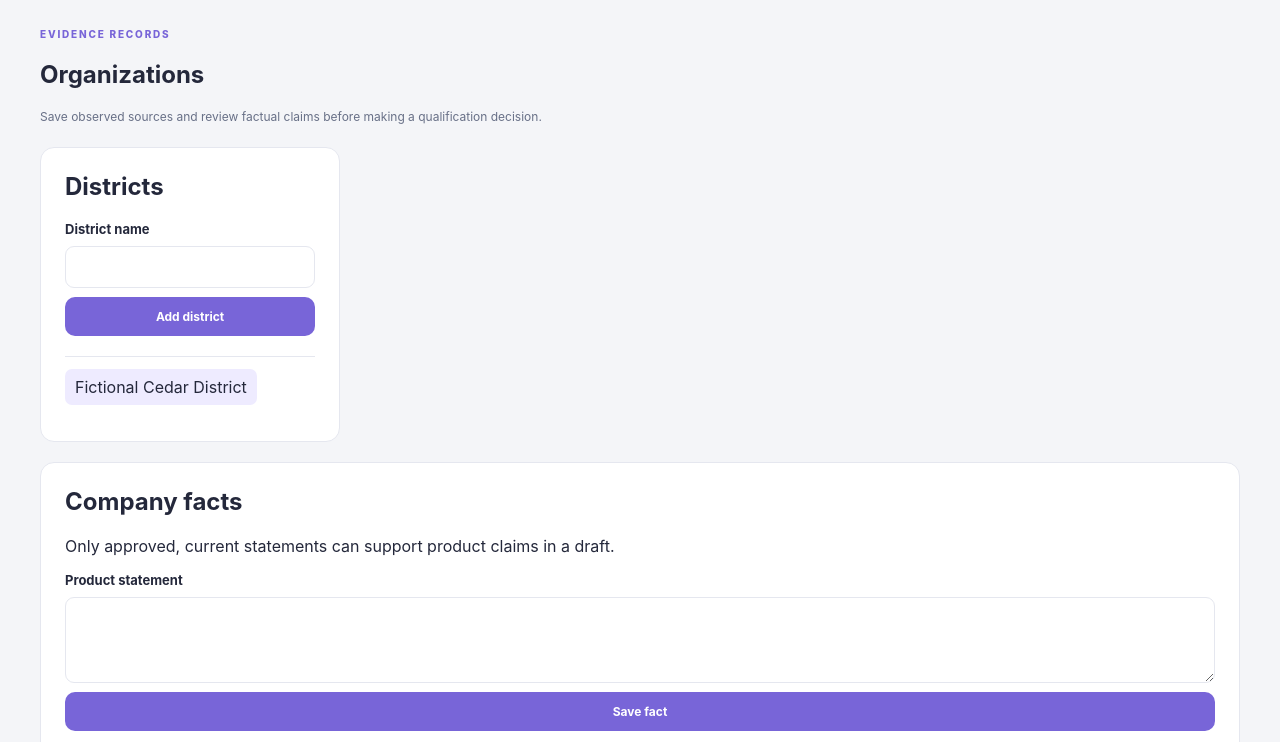
Test: creates one linked research order and rereads the saved owner state
Click the button "Fictional Cedar District". click: (161, 387)
box: [65,369,257,405]
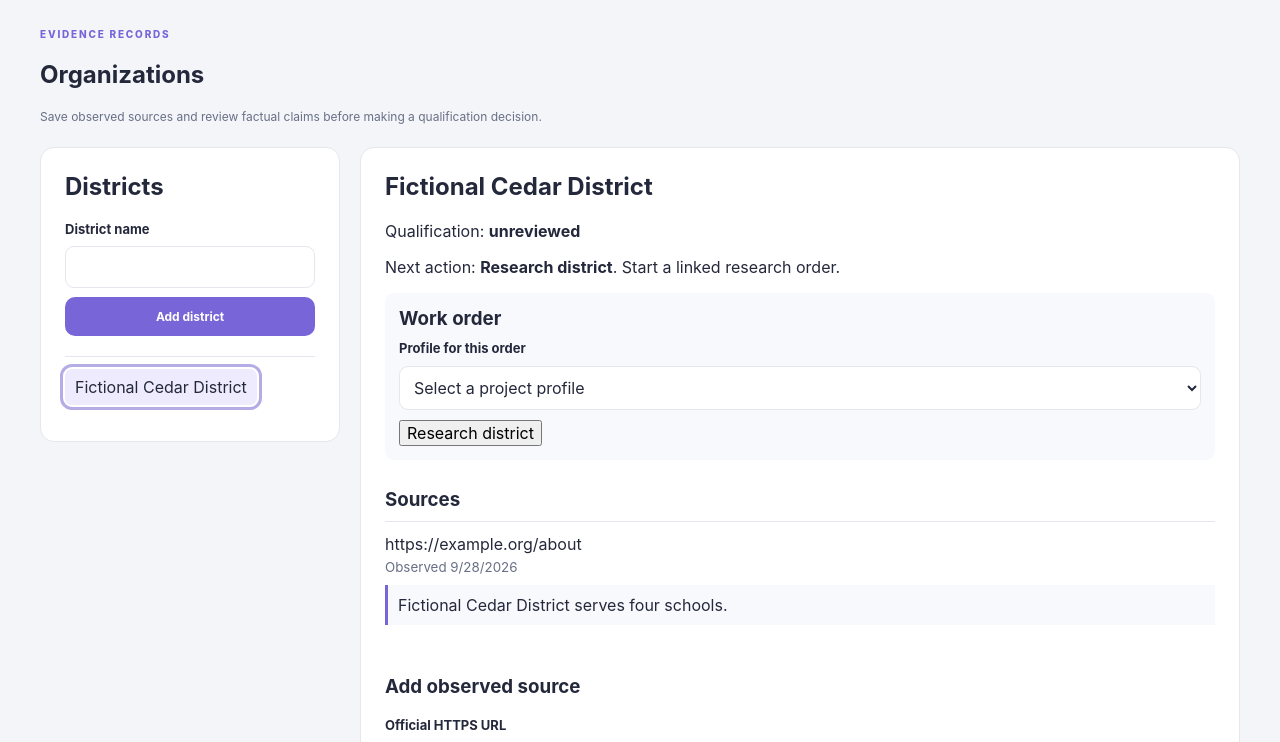
Select "Researcher" in the dropdown labelled "Profile for this order". click: (800, 388)
box: [399,366,1201,410]
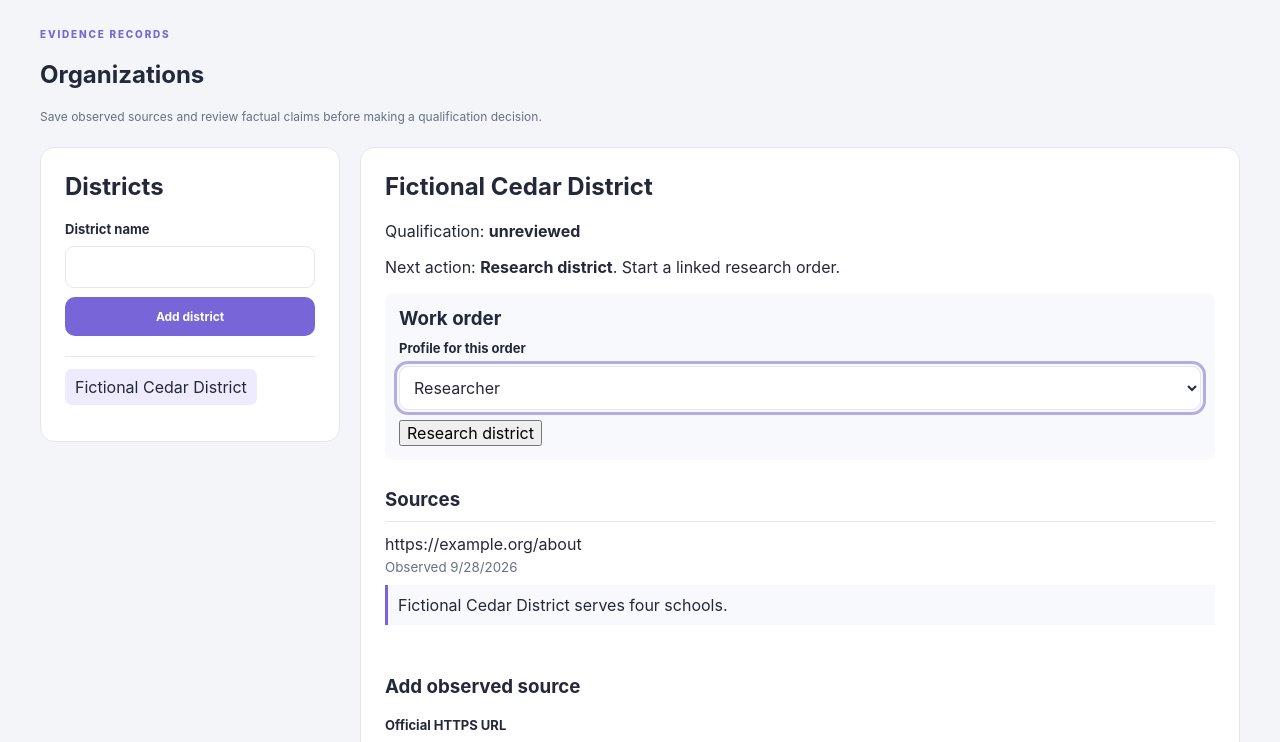
Click the button "Research district". click: (470, 433)
box: [399,420,542,446]
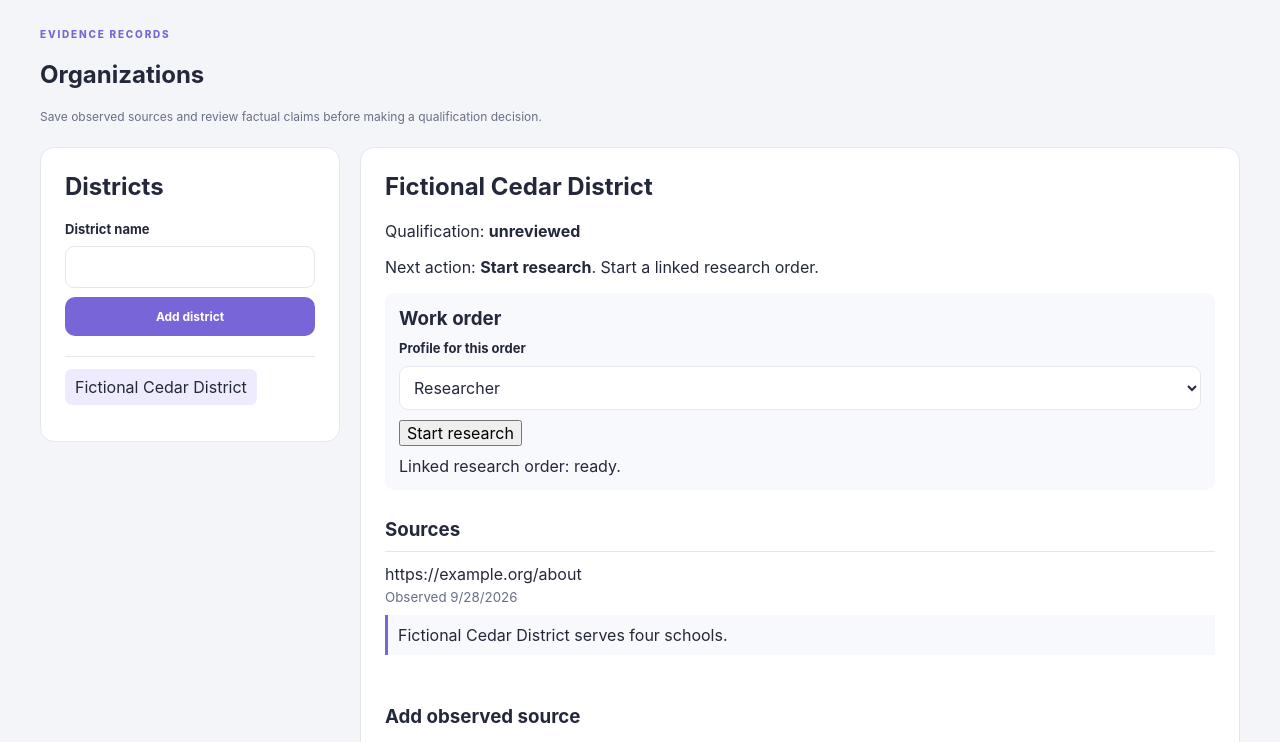
Expected: the button "Start research" is shown, [399,420,522,446]
